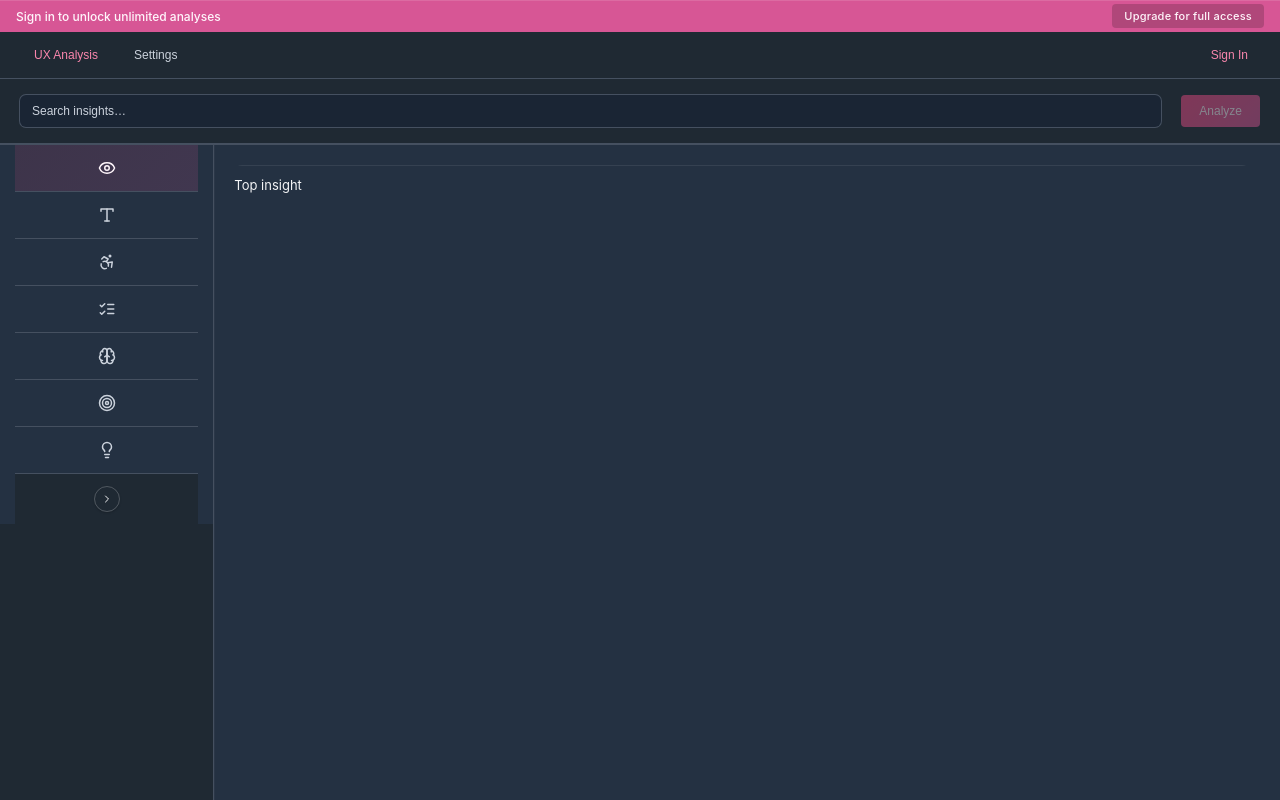
App psychology tab content rendering for summary-only payloads › renders a psychology card containing the summary text
This screenshot has width=1280, height=800.
Click the tab with id "analysis-tab-psychology" at (107, 357), box [15,333,198,380]
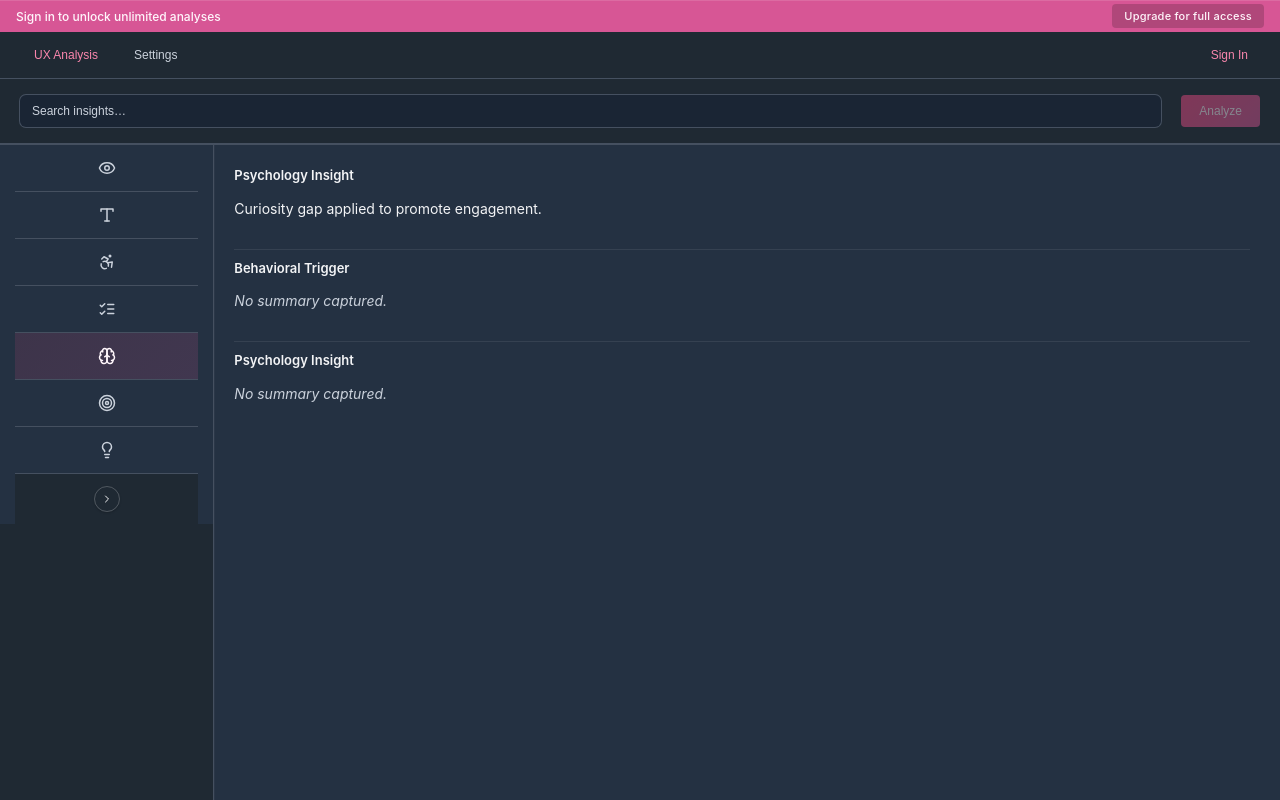
Expected: the element that starts with "Psychology Insight" is shown, [234,165,1250,413]
Expected: the element that starts with "Psychology Insight" shows "Curiosity gap applied to promote engagement.", [234,200,542,217]
